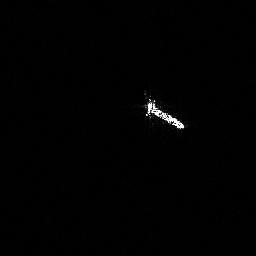ship: (141, 92, 186, 131)
